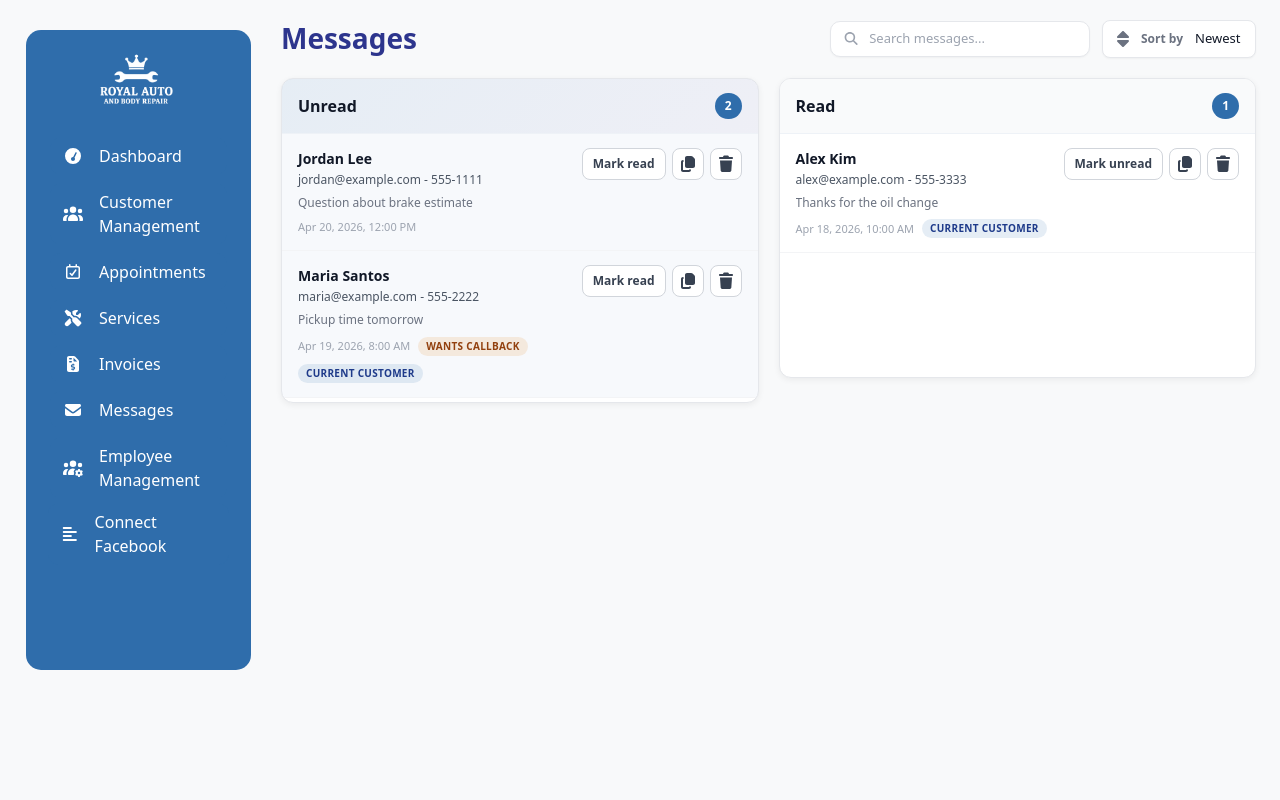
Admin Messages › clear search button clears the search field
Check: the text "Jordan Lee" is shown, box [298, 148, 372, 168]
Type "jord" into the field labelled "Search messages...".
click(972, 39); type("jord")  # box [867, 28, 1077, 50]
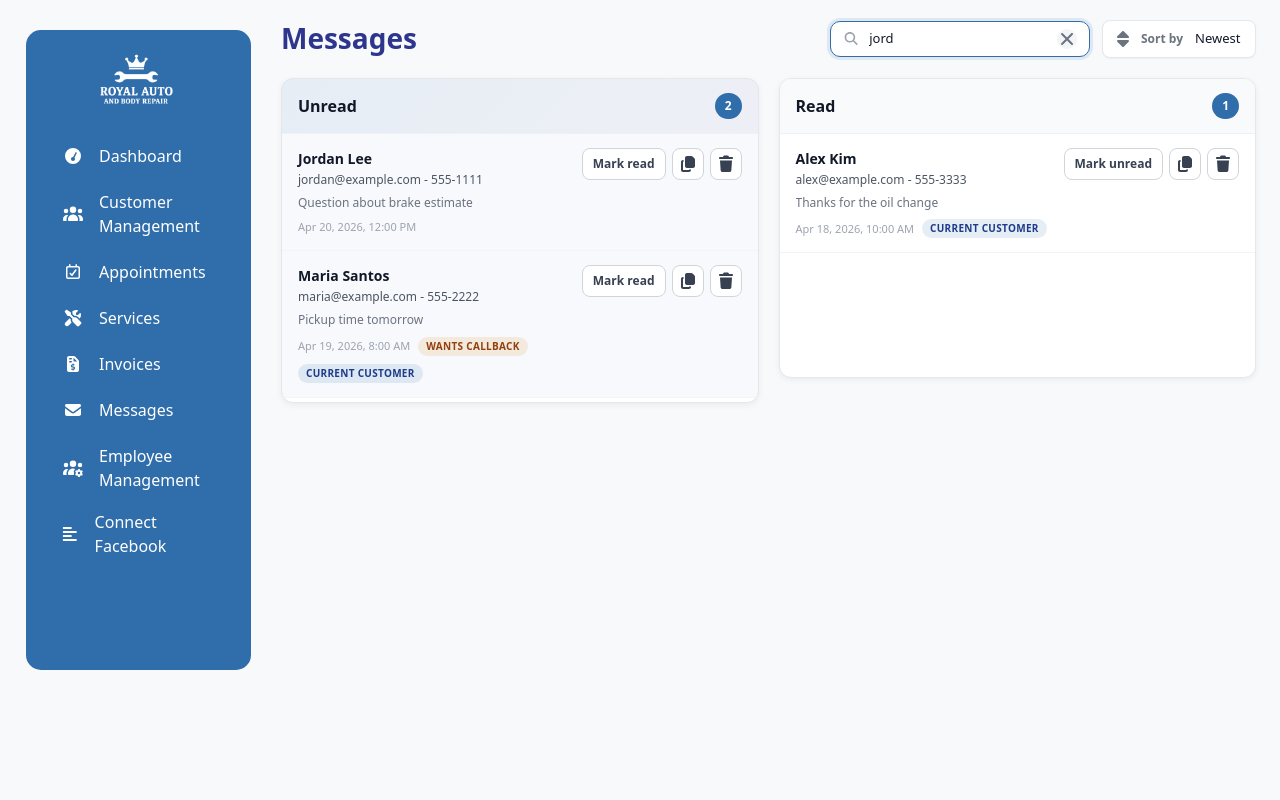
Check: the button named "clear search" is shown
Click the button named "clear search".
click(1067, 39)  # box [1057, 29, 1077, 49]
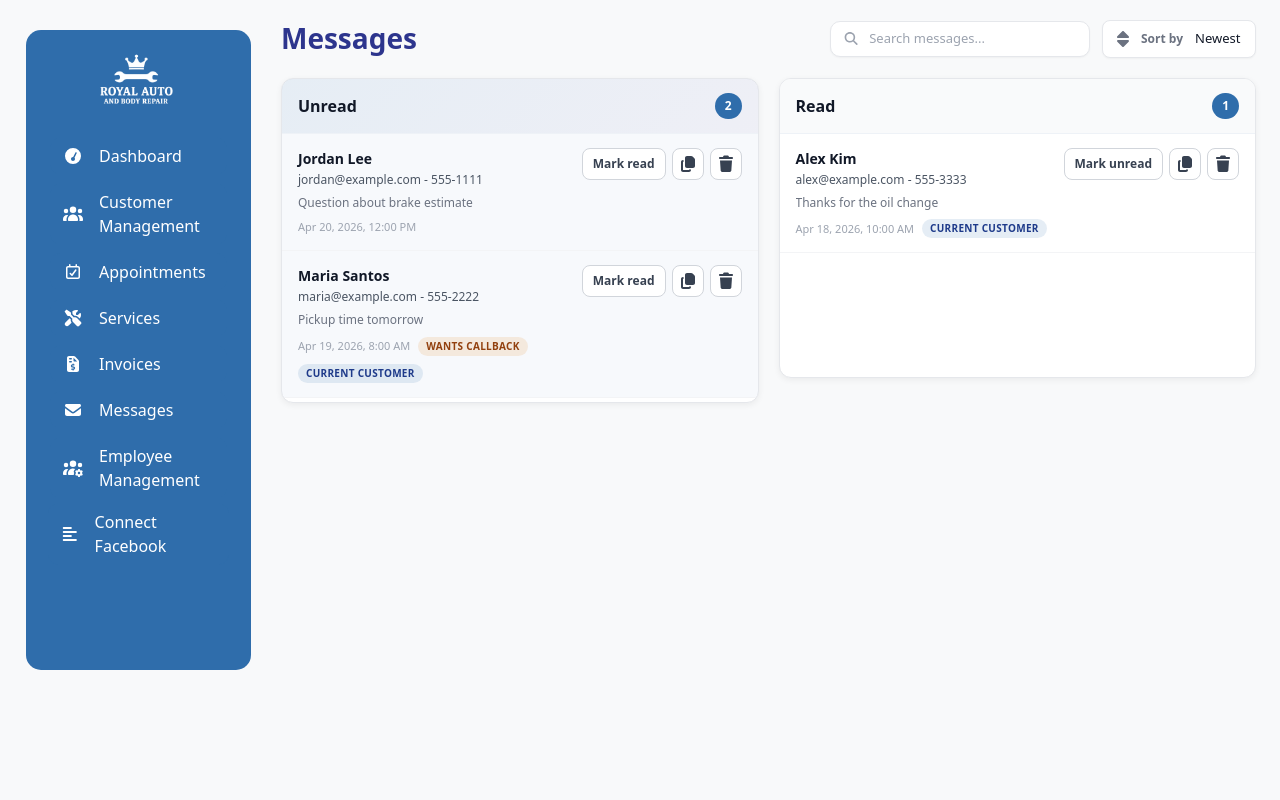
Check: the field labelled "Search messages..." is empty, box [867, 28, 1077, 50]
